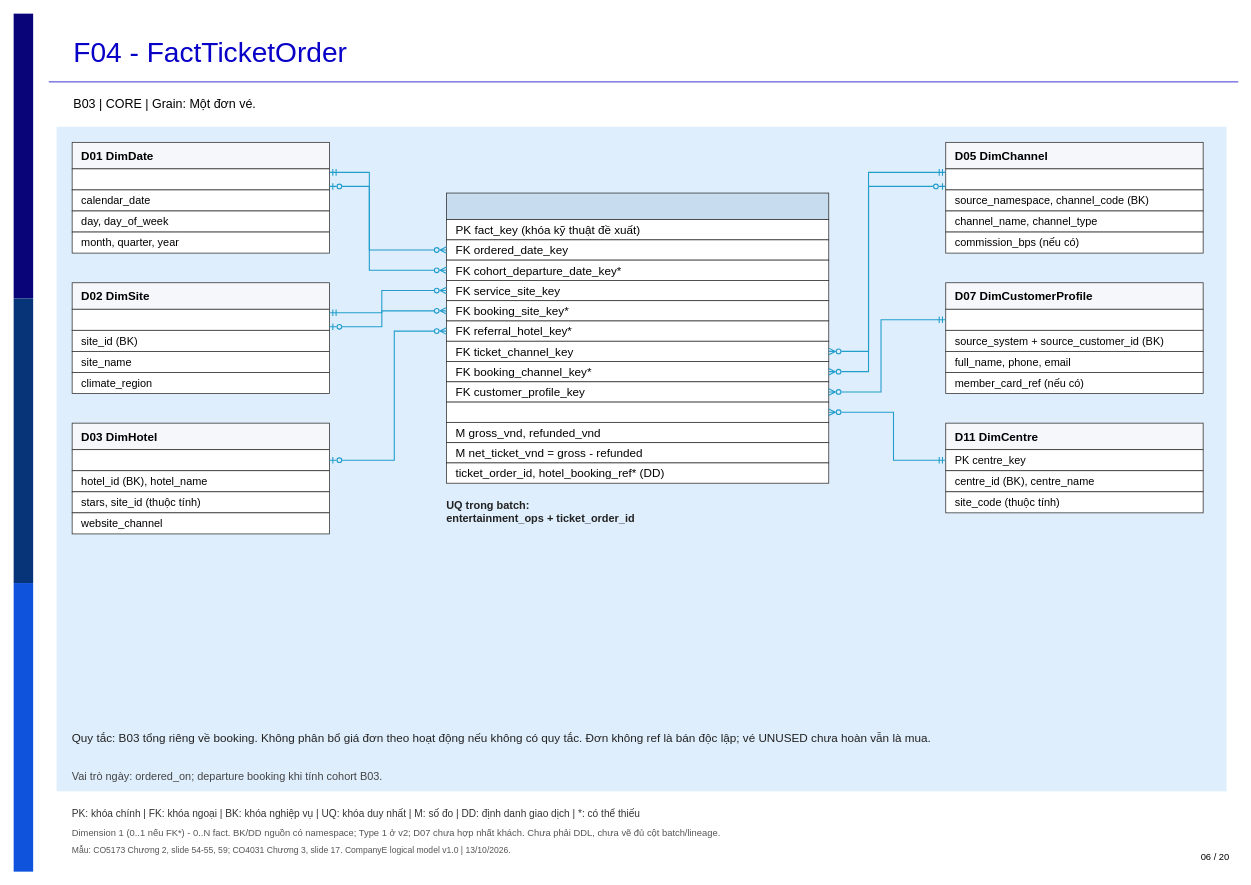
Some shapes in this 1251 by 885 pixel diagram are drawn without their labels. Each missing label, with the box of its shape:
F04 FactTicketOrder: (446, 192, 829, 220)
FK centre_key: (446, 401, 829, 422)
PK channel_key: (945, 168, 1203, 190)
PK customer_profile_key: (945, 308, 1203, 330)
PK date_key: (71, 168, 330, 190)
PK hotel_key: (71, 449, 330, 471)
PK site_key: (71, 308, 330, 330)
